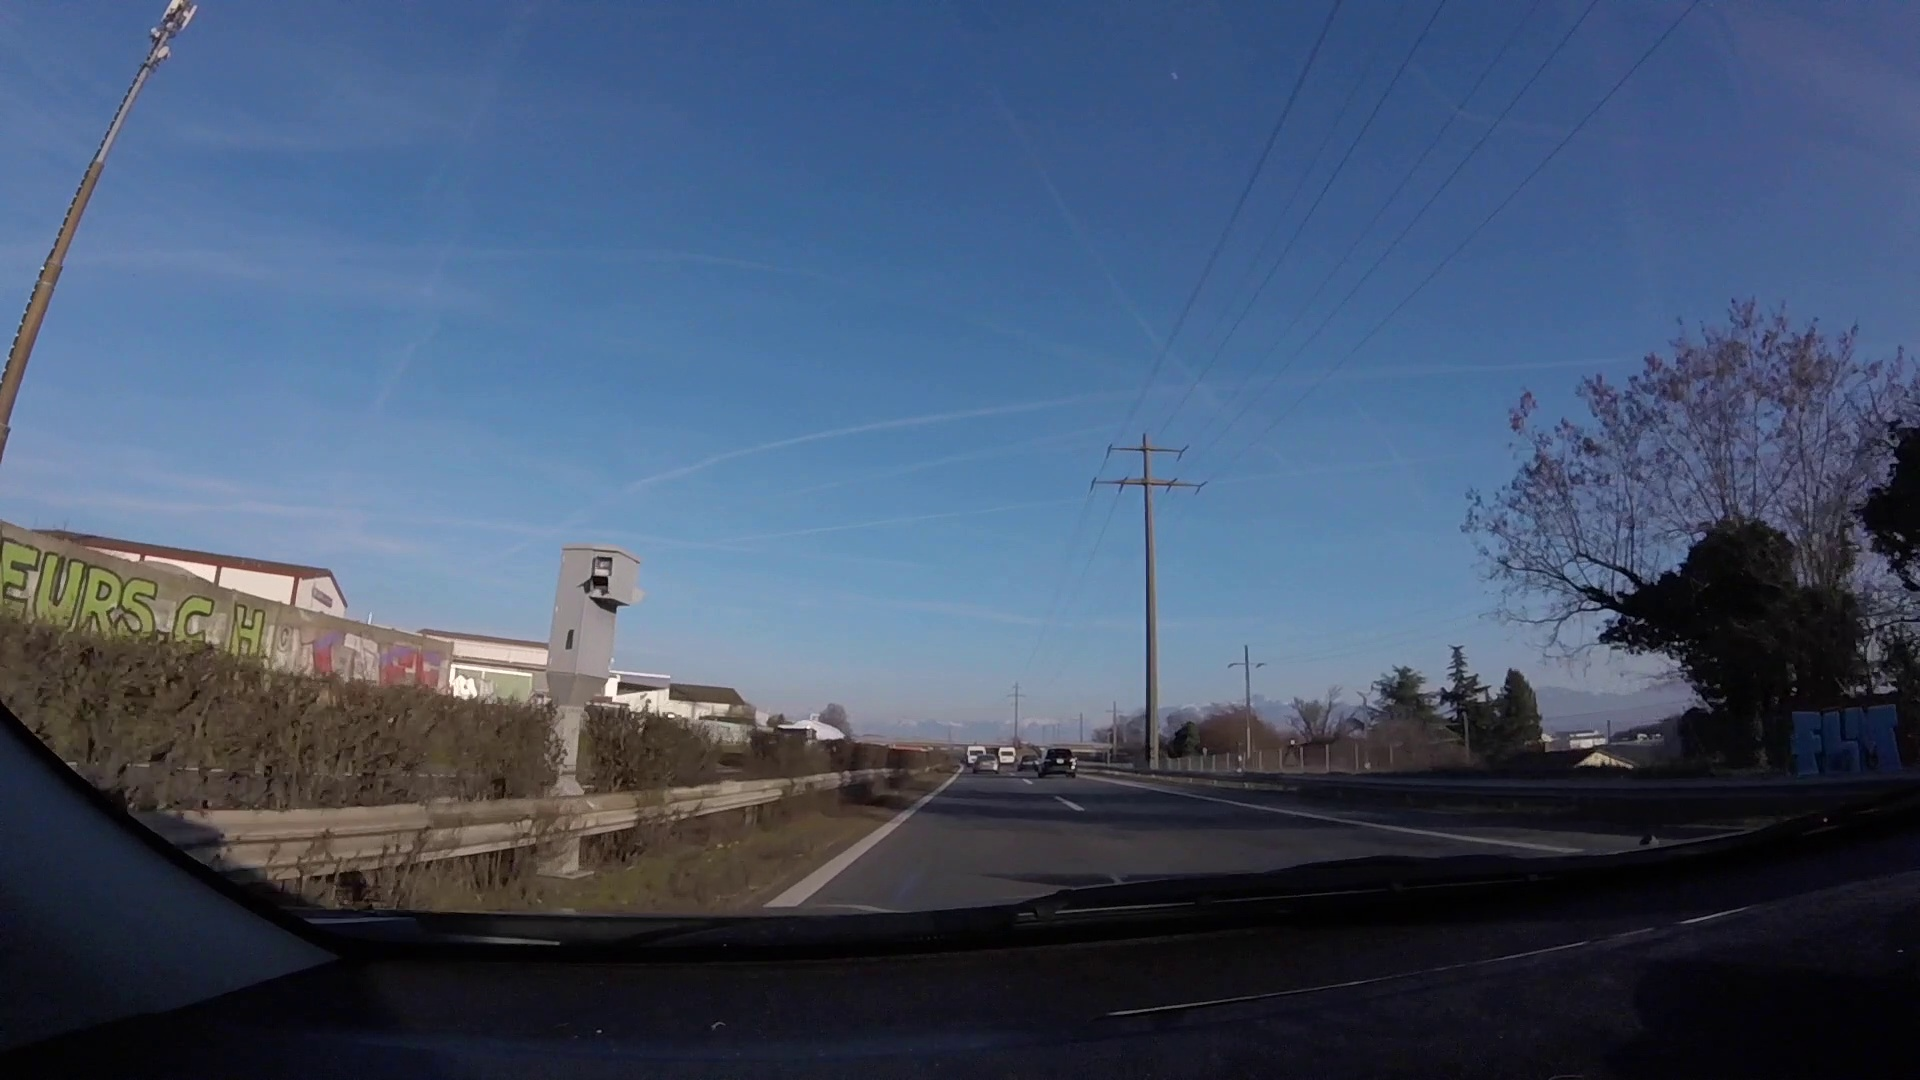radar: (545, 542, 649, 746)
